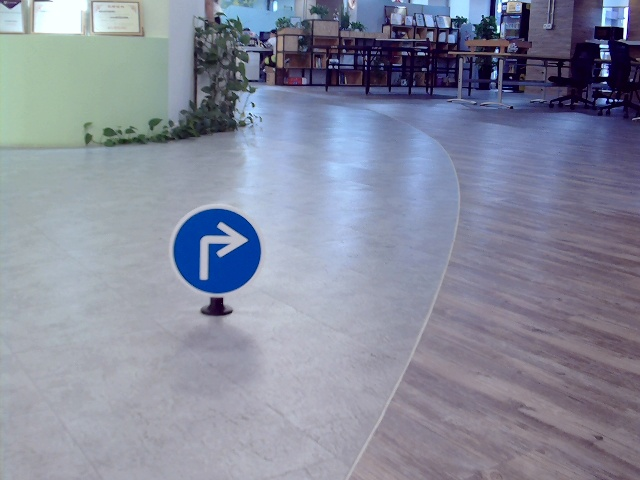turn_right: (191, 223, 247, 283)
